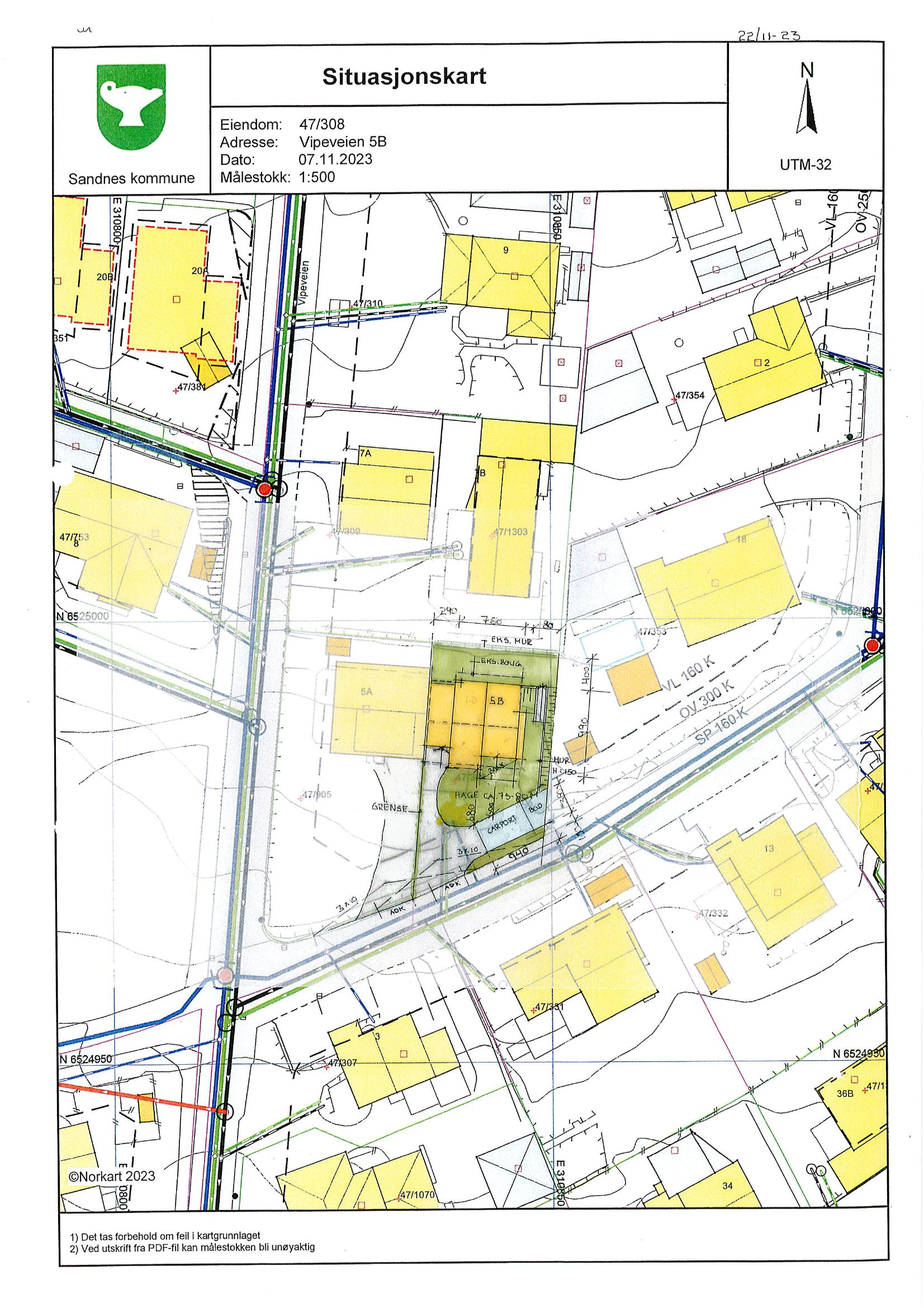situasjonskart: (49, 192, 893, 1209)
